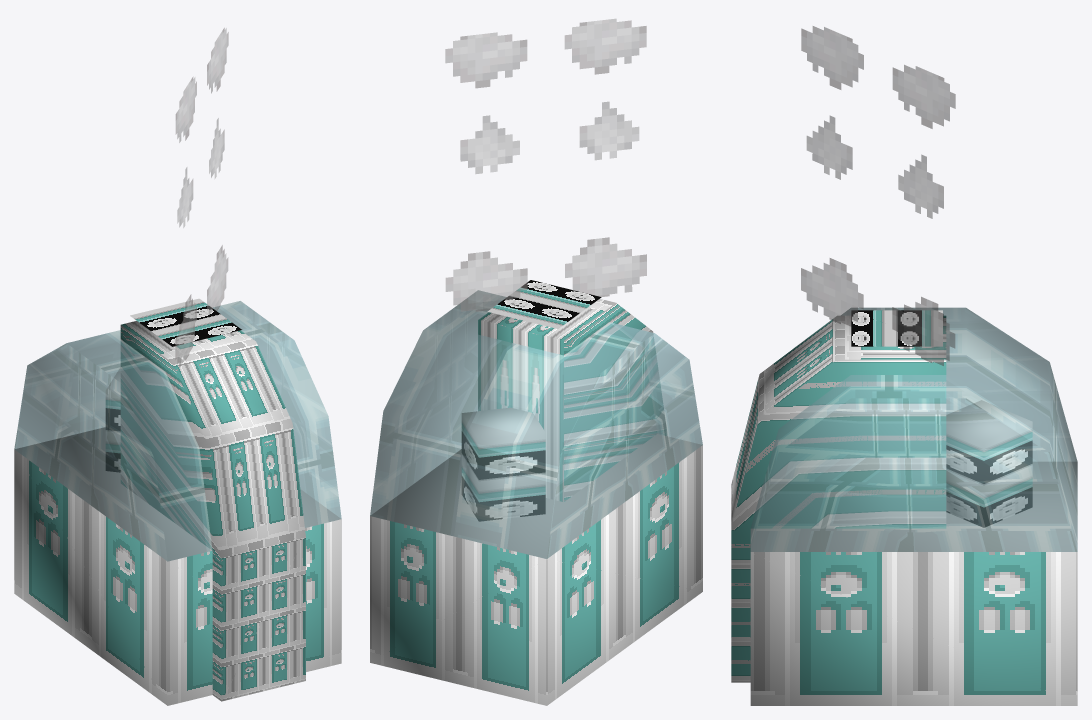
3 renders of one model, left to right at view 1: azimuth 30°, elevation 25°; view 2: azimuth 150°, elevation 25°; view 3: azimuth 270°, elevation 25°, orthographic. The views are drawn at different scales.
Visible parts, largest first — view 1: 3740kg_ms_02; view 2: 3740kg_ms_02; view 3: 3740kg_ms_02.
Boxes of the visible parts, left/top/right/bottom form: 3740kg_ms_02: left=14, top=28, right=341, bottom=705; 3740kg_ms_02: left=370, top=18, right=702, bottom=705; 3740kg_ms_02: left=731, top=26, right=1077, bottom=705.
Size of the model in its own units: 0.5205 by 1.65 by 0.8413.
Materials: 4 (4 with a texture image).
